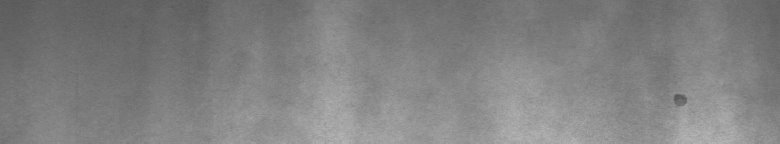fi: (671, 88, 690, 110)
